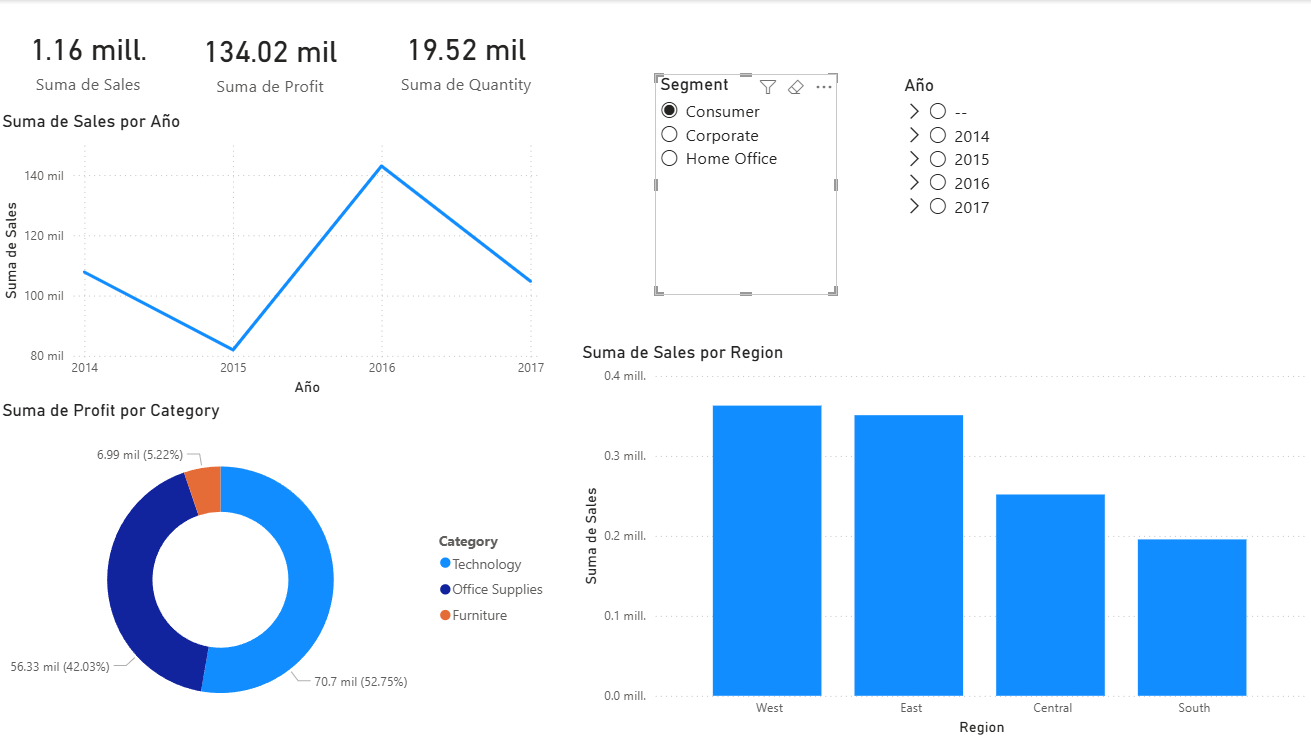

The dashboard page shown, as its layout file describes it:
{"tool":"powerbi","page":{"name":"Página 1","canvas":[1280,720],"ordinal":0},"visuals":[{"type":"card","fields":{"Values":["Sum(superstore_limpio$.Profit)"]},"box":[177.3,4.8,177.3,108.5],"z":0},{"type":"card","fields":{"Values":["Sum(superstore_limpio$.Quantity)"]},"box":[367.8,0,177.3,113.4],"z":1000},{"type":"card","fields":{"Values":["Sum(superstore_limpio$.Sales)"]},"box":[0,0,177.3,113.4],"z":2000},{"type":"clusteredColumnChart","fields":{"Category":["superstore_limpio$.Region"],"Y":["Sum(superstore_limpio$.Sales)"]},"box":[564.1,332.6,715.9,387.1],"z":3000},{"type":"donutChart","fields":{"Category":["superstore_limpio$.Category"],"Y":["Sum(superstore_limpio$.Profit)"]},"box":[0,389.1,544.7,330.7],"z":4000},{"type":"lineChart","fields":{"Category":["superstore_limpio$.Order Date.Variación.Jerarquía de fechas.Año","superstore_limpio$.Order Date.Variación.Jerarquía de fechas.Trimestre","superstore_limpio$.Order Date.Variación.Jerarquía de fechas.Mes","superstore_limpio$.Order Date.Variación.Jerarquía de fechas.Día"],"Y":["Sum(superstore_limpio$.Sales)"]},"box":[0,108,536.9,281.1],"z":5000},{"type":"listSlicer","fields":{"Values":["superstore_limpio$.Segment"]},"box":[640,72,177,215],"z":5001},{"type":"listSlicer","fields":{"Values":["superstore_limpio$.Order Date.Variación.Jerarquía de fechas.Año","superstore_limpio$.Order Date.Variación.Jerarquía de fechas.Trimestre","superstore_limpio$.Order Date.Variación.Jerarquía de fechas.Mes","superstore_limpio$.Order Date.Variación.Jerarquía de fechas.Día"]},"box":[877.3,72.9,177,214],"z":5002}]}

Visuals, with their boxes in screenshot pixels (x1, y1, x2, y2), scaled from the page's 1280x720 canvas onto the 1311x740 screenshot:
card - Sum(superstore_limpio$.Profit): (182,5,363,116)
card - Sum(superstore_limpio$.Quantity): (377,0,558,117)
card - Sum(superstore_limpio$.Sales): (0,0,182,117)
clusteredColumnChart - superstore_limpio$.Region x Sum(superstore_limpio$.Sales): (578,342,1310,739)
donutChart - superstore_limpio$.Category x Sum(superstore_limpio$.Profit): (0,400,558,739)
lineChart - superstore_limpio$.Order Date.Variación.Jerarquía de fechas.Año x superstore_limpio$.Order Date.Variación.Jerarquía de fechas.Trimestre: (0,111,550,400)
listSlicer - superstore_limpio$.Segment: (656,74,837,295)
listSlicer - superstore_limpio$.Order Date.Variación.Jerarquía de fechas.Año x superstore_limpio$.Order Date.Variación.Jerarquía de fechas.Trimestre: (899,75,1080,295)
